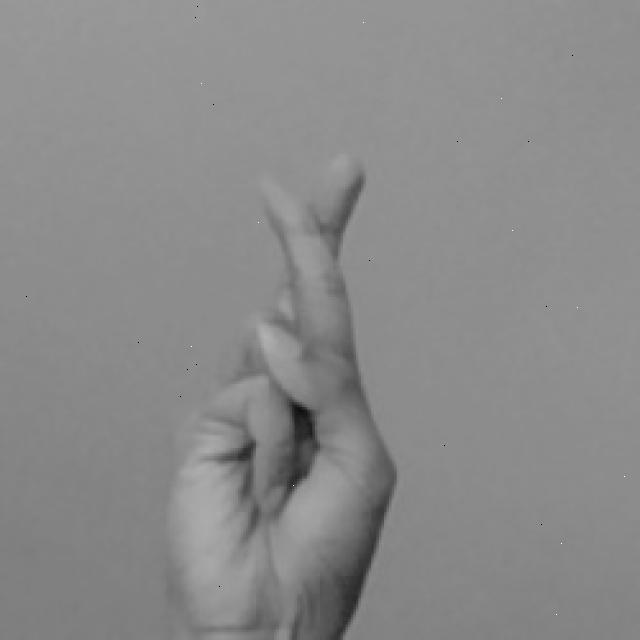R: (155, 148, 401, 640)
